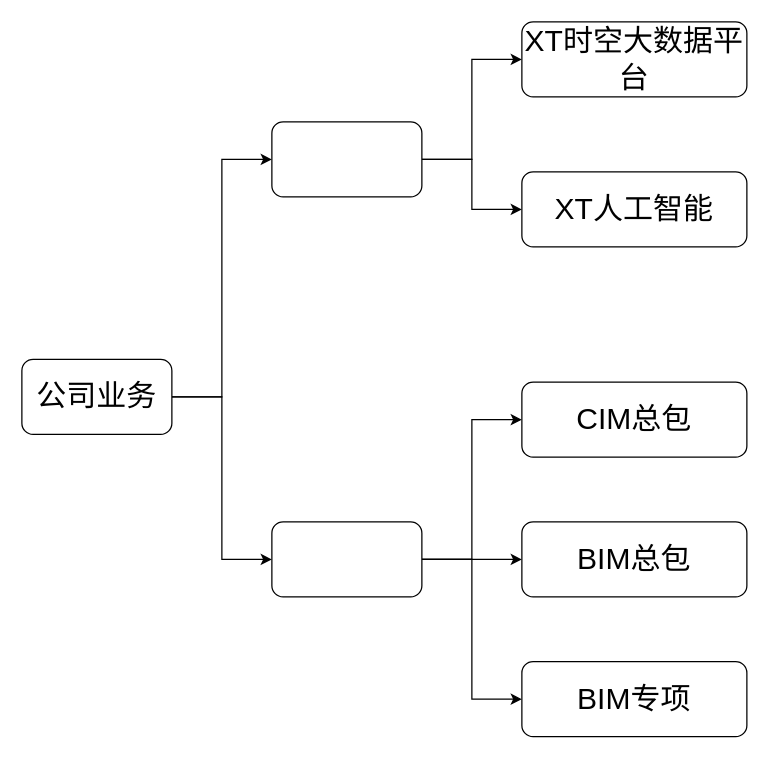
Image size: 769x759. Some labels were removed from this diagram. The shapes that lost their labels are listed below. From the top down, each one's box as (x1, y1, x2, y2) in pixels, then its label:
(271, 121, 422, 197): 鲲特科技
(271, 521, 422, 597): 百特绿源
